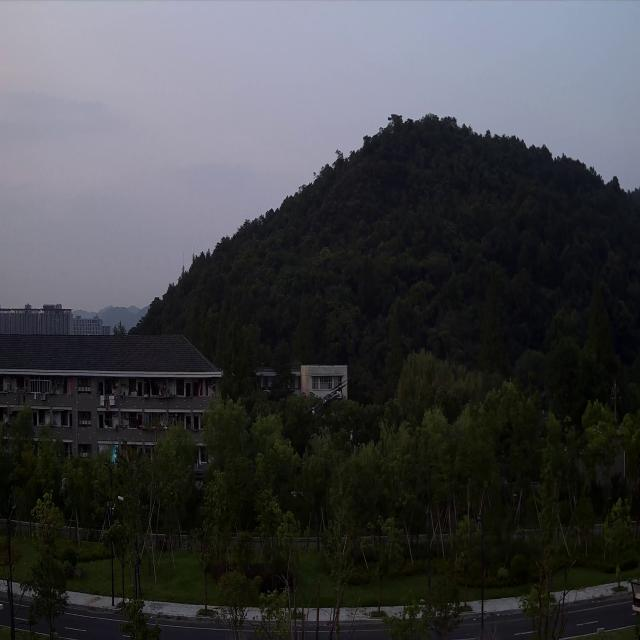UAV: (303, 374, 350, 419)
